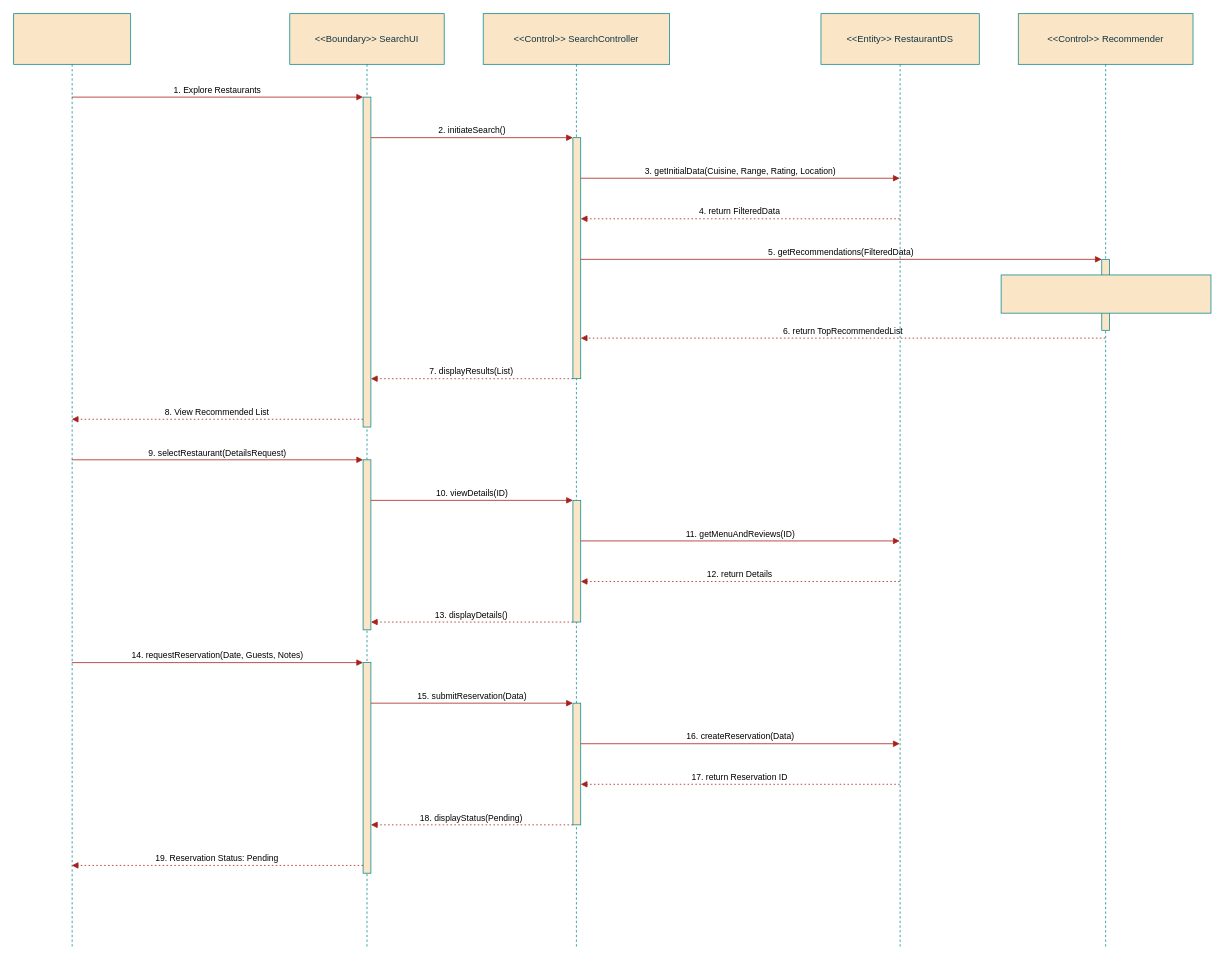
Some shapes in this 1225 by 961 pixel diagram are drawn without their labels. The box of each missing label's shape, as (x1, y1, x2, y2) in pixels:
KB RS Logic (Constraints Approach): (1000, 274, 1211, 313)
User: (13, 13, 131, 947)
